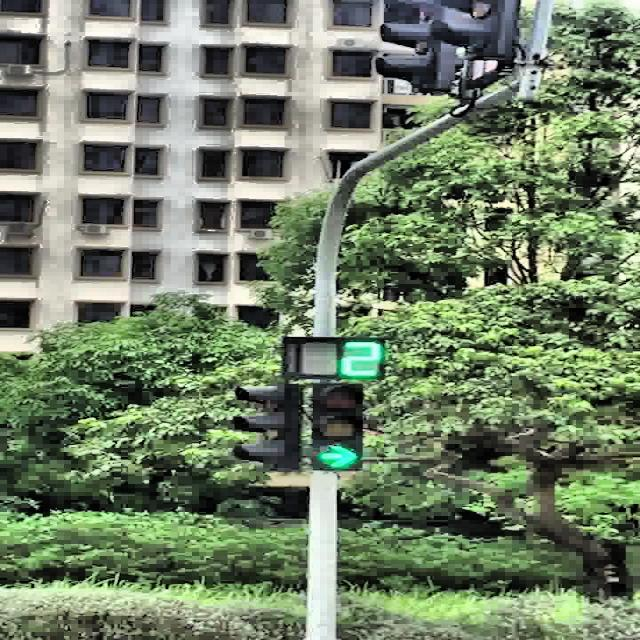green: (307, 384, 363, 472)
